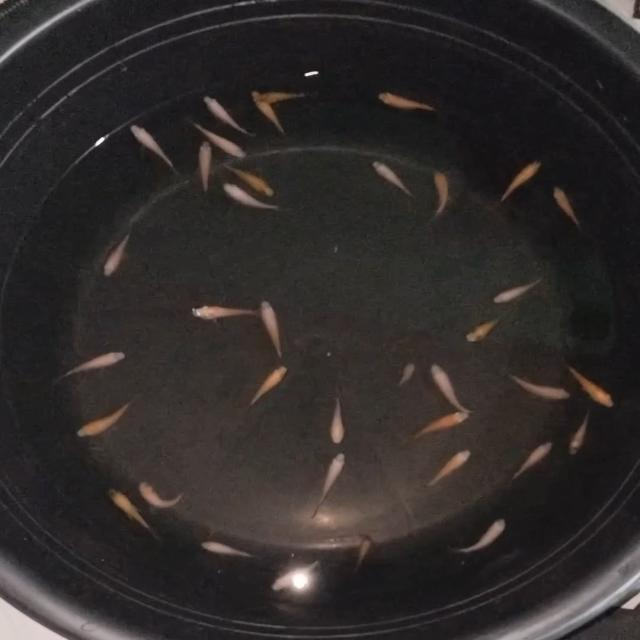nila: (302, 450, 349, 520), (497, 364, 572, 406), (188, 115, 251, 161), (50, 349, 128, 386), (126, 121, 181, 173), (446, 513, 508, 559), (72, 393, 135, 438), (564, 360, 620, 410), (106, 484, 155, 540), (403, 407, 472, 445), (427, 361, 475, 414), (249, 84, 297, 134), (218, 176, 284, 212), (492, 160, 541, 208), (208, 95, 258, 138), (99, 220, 135, 278), (370, 158, 418, 201), (492, 273, 550, 308), (244, 362, 288, 408), (508, 440, 554, 484), (423, 447, 471, 489), (266, 557, 318, 595), (376, 88, 448, 114), (226, 162, 276, 198), (261, 296, 286, 362), (198, 538, 258, 564), (426, 167, 454, 222), (134, 481, 189, 508), (186, 302, 266, 320), (568, 406, 594, 458), (554, 186, 582, 232), (462, 314, 504, 344), (198, 136, 216, 199), (328, 393, 349, 447), (250, 88, 316, 104), (354, 532, 376, 574), (392, 358, 417, 391)
